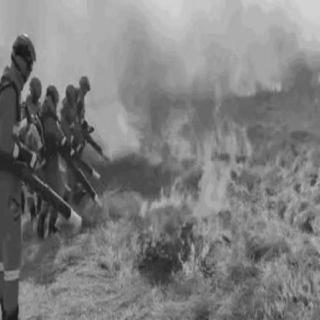Fire: (134, 67, 257, 281), (260, 225, 317, 311)
